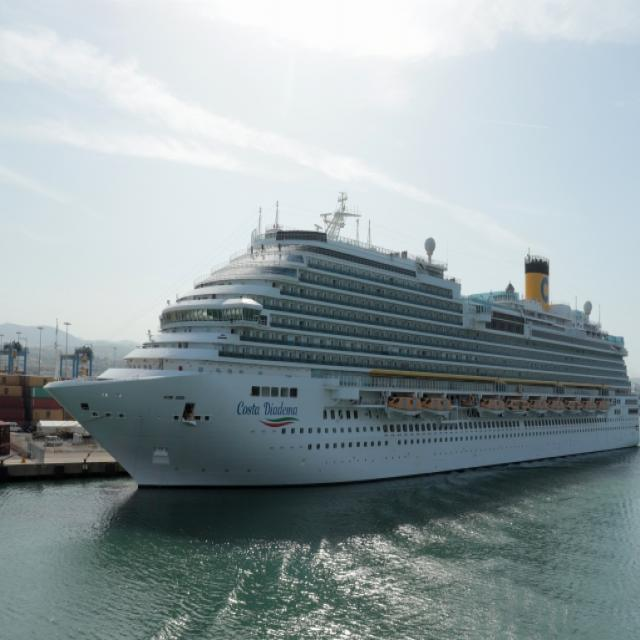cruises: (41, 192, 640, 497)
